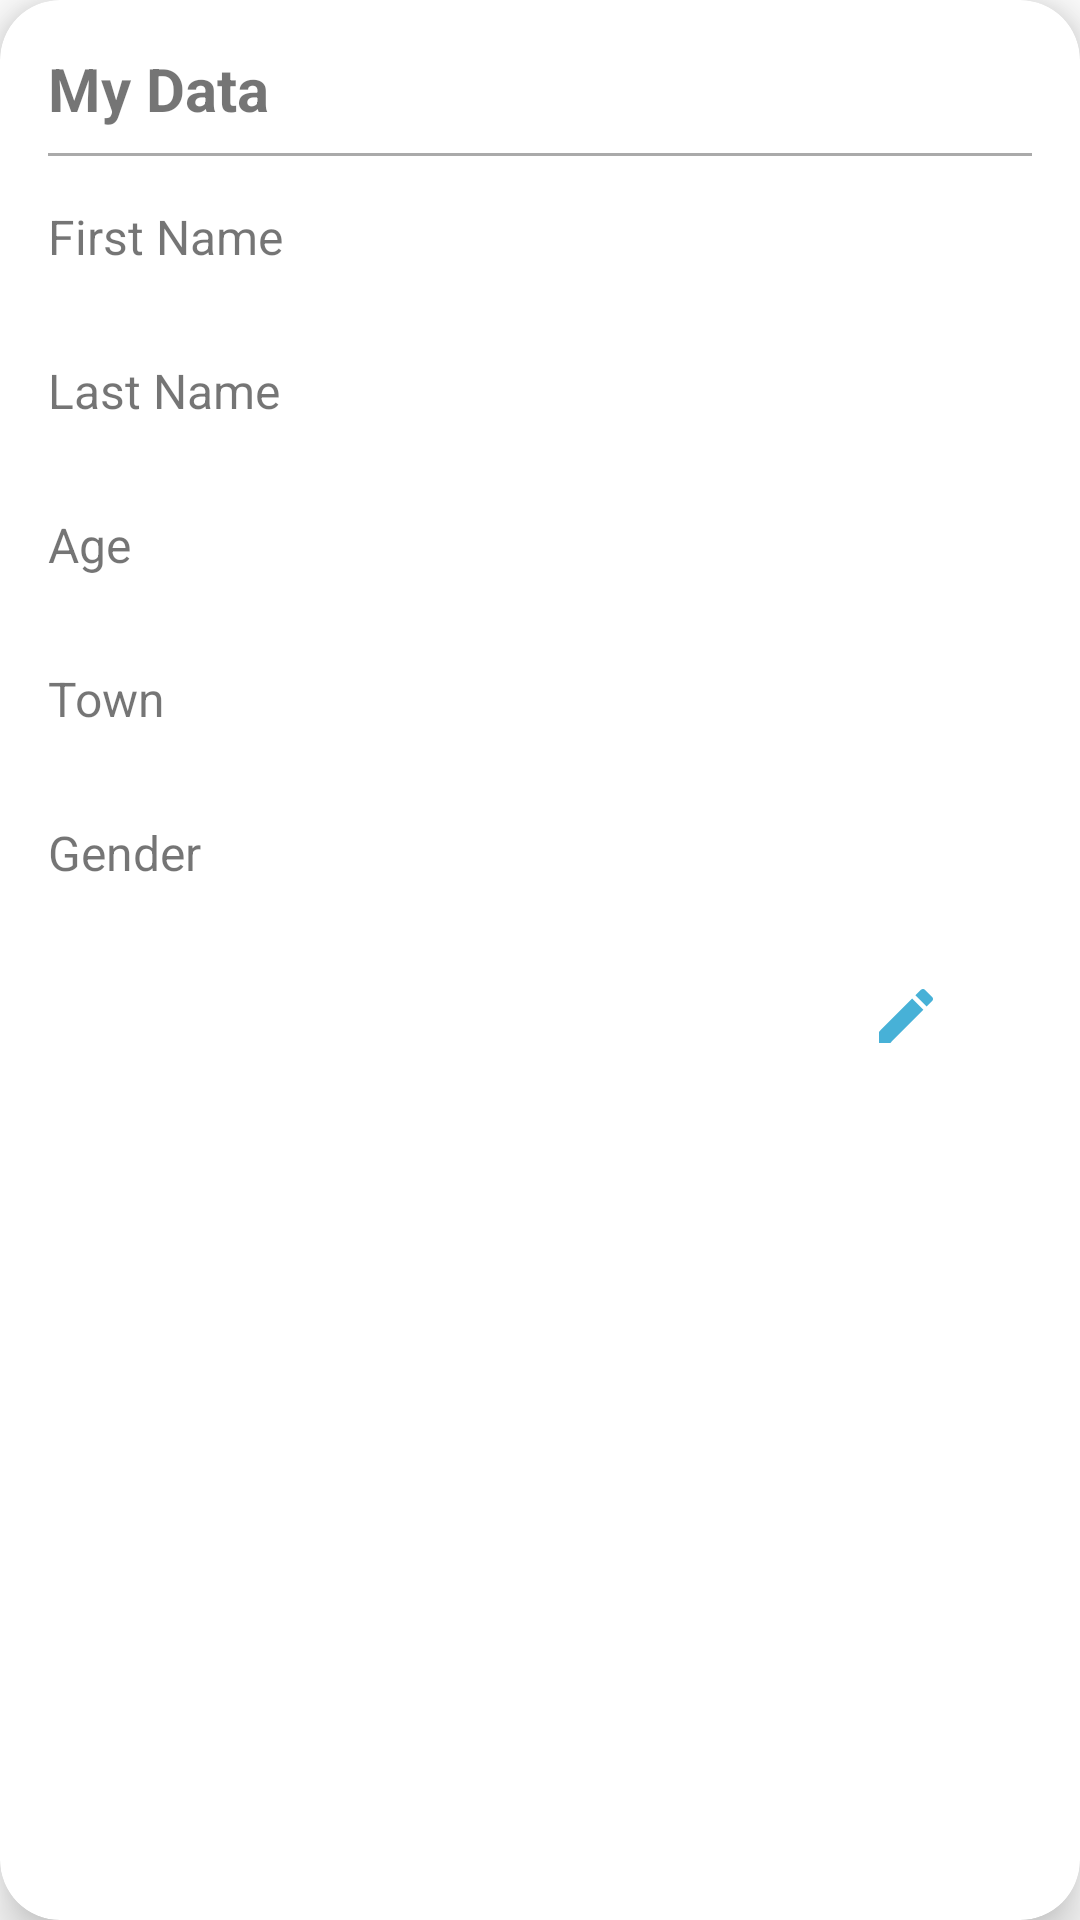

Named icons in this screenshot (1080×1920) and their bounding boxes, [x1,y1,x2,y2]:
edit: [879,989,933,1043]
